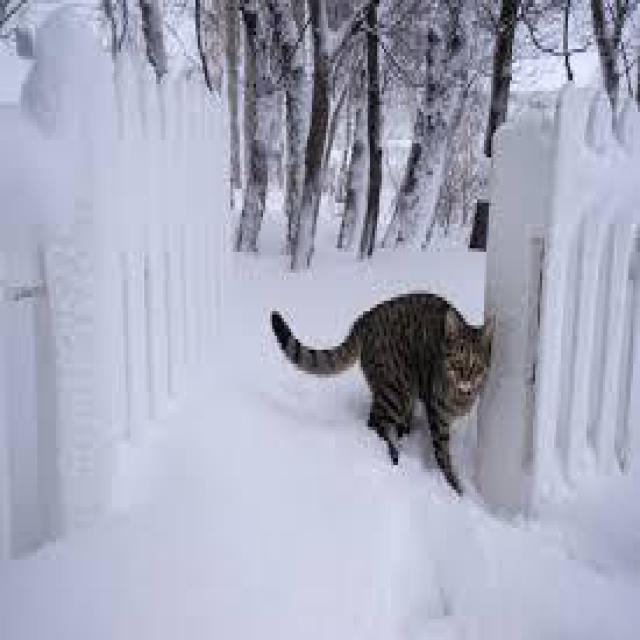Cat: (440, 304, 500, 401)
